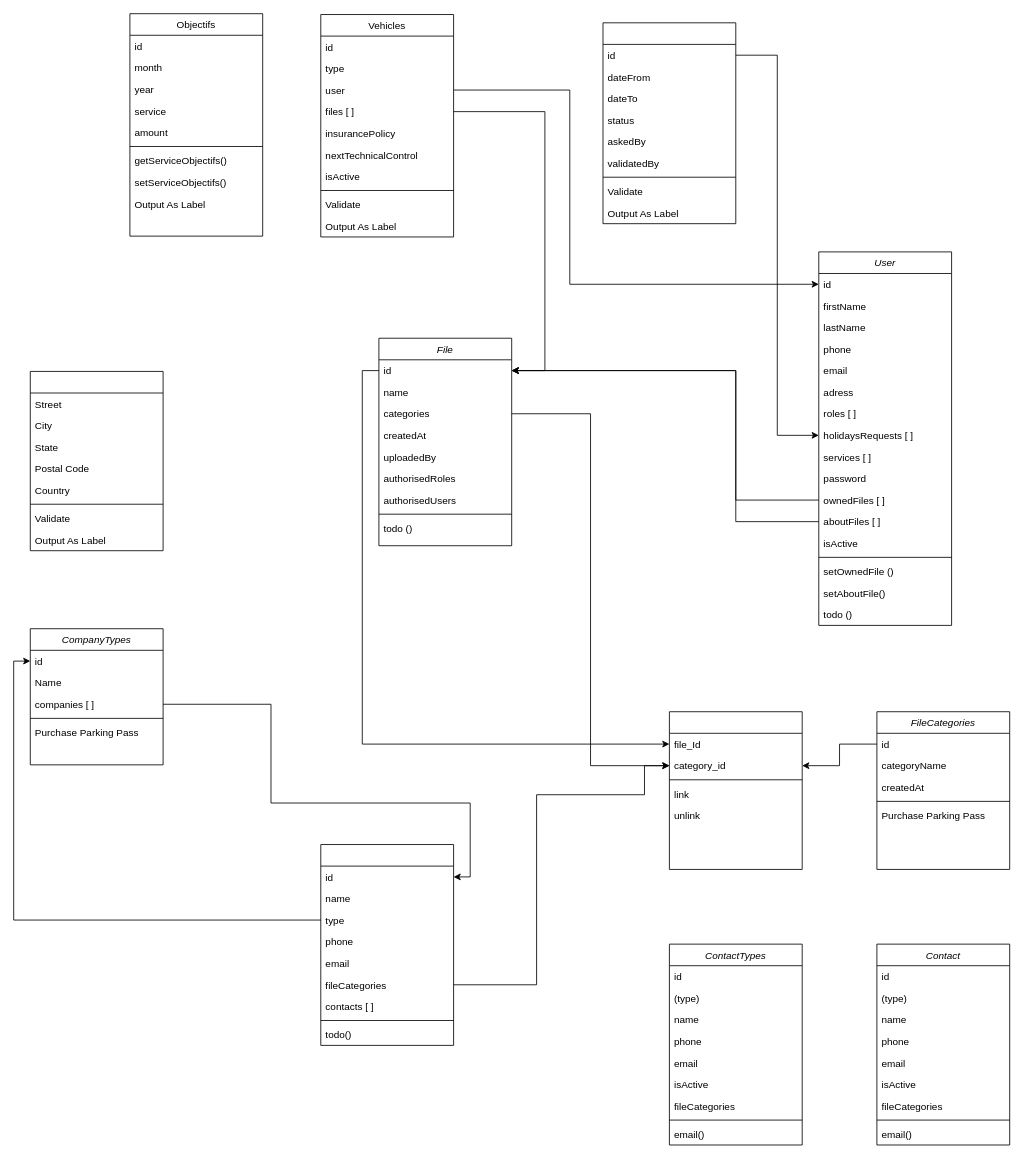
Some shapes in this 1023 by 1159 pixel diagram are drawn without their labels. The shapes that lost their labels are listed below. From the top down, each one's box as (x1, y1, x2, y2) in pixels, then its label:
(602, 22, 736, 224): Holidays
(29, 371, 163, 551): Address
(669, 711, 802, 869): file_category
(320, 844, 454, 1045): Company
